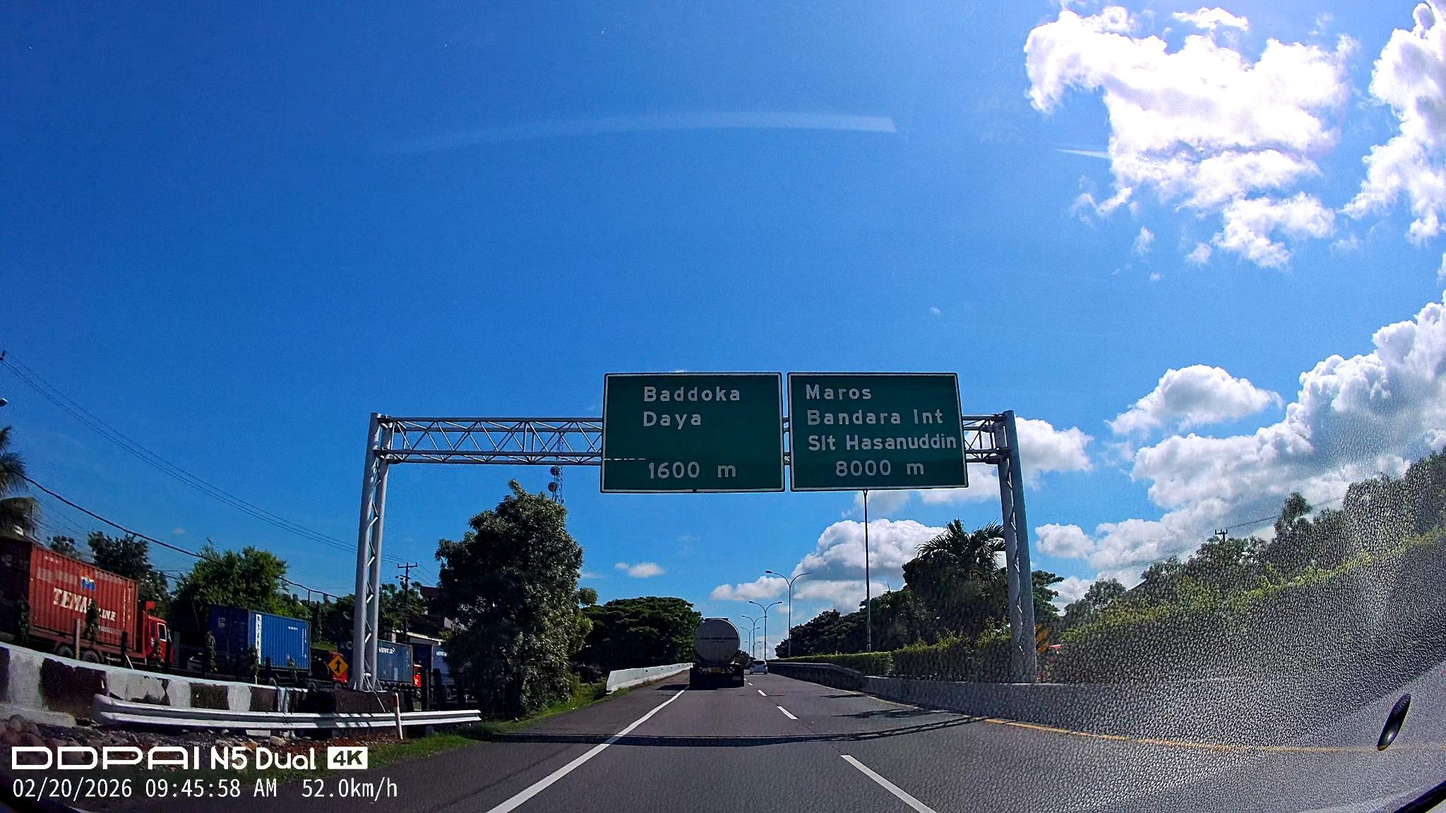rambu_teks: (600, 371, 786, 495), (785, 371, 970, 493)
